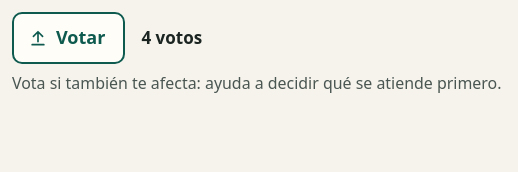
Test: <VoteButton> › sube el conteo al instante y lo confirma con el servidor
Click the button "Votar" at (69, 38), box 12,12 -> 126,64
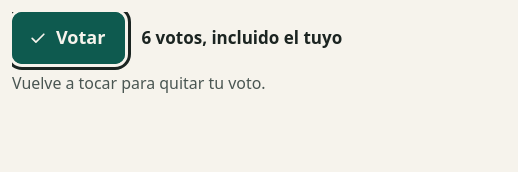
Expected: the text "6 votos, incluido el tuyo" is shown, 142,25 -> 342,51
